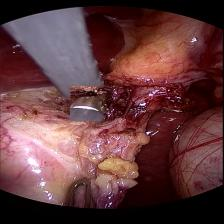Grasper: (62, 174, 100, 210)
Scissors: (70, 85, 113, 120)
